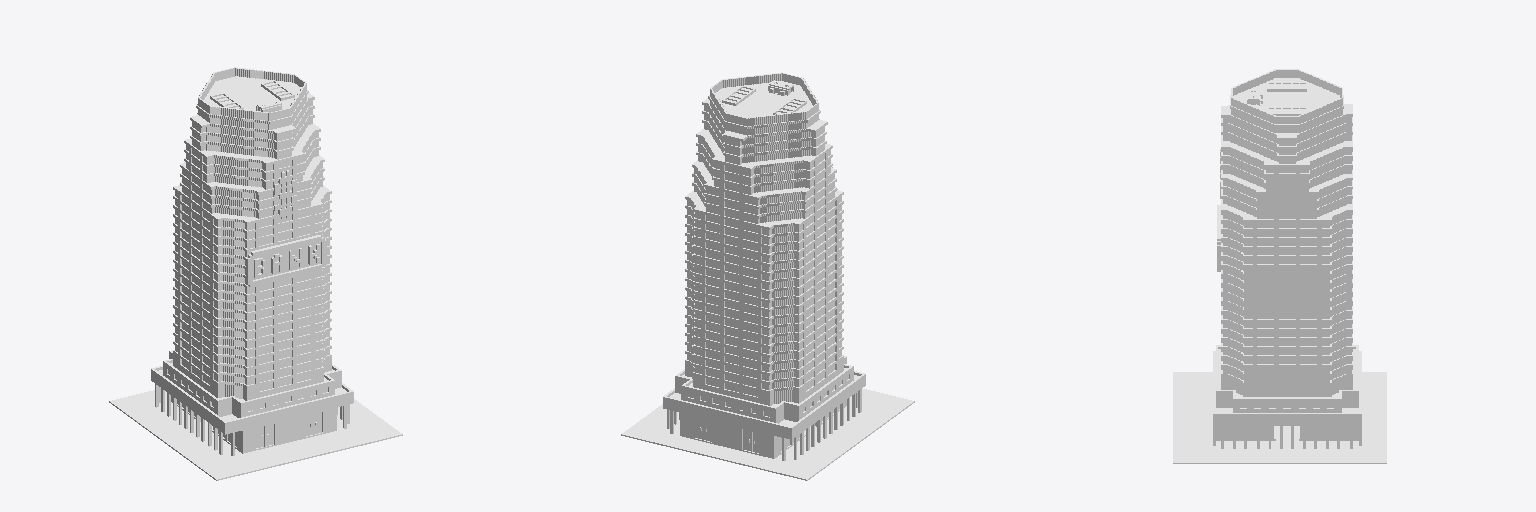
File: Bank.obj
3 views of the same model, side by side, from view 1: azimuth 30°, elevation 25°; view 2: azimuth 150°, elevation 25°; view 3: azimuth 270°, elevation 25° (orthographic).
Parts seen in each view (by area): view 1: object 1; view 2: object 1; view 3: object 1.
Part boxes in pixels (bbox=[...]): object 1: bbox=[109, 67, 402, 480]; object 1: bbox=[621, 72, 914, 480]; object 1: bbox=[1173, 69, 1386, 463].
Size of the model in its own units: 15 by 25.1 by 15.